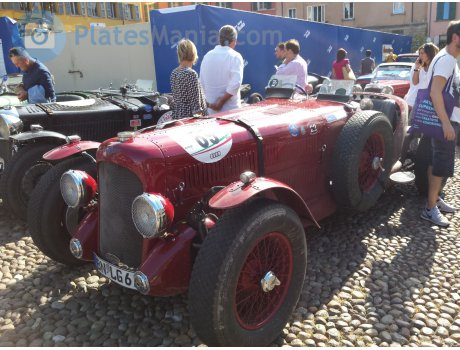License Plates: (91, 259, 134, 283)
